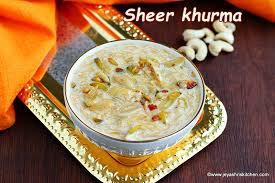Sheer Khurma: (62, 44, 234, 152)
